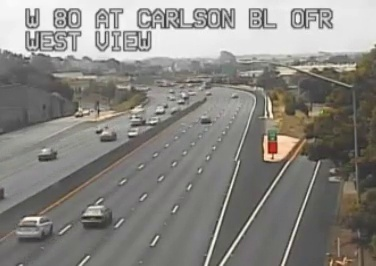car: (16, 216, 53, 238), (81, 206, 111, 227)
